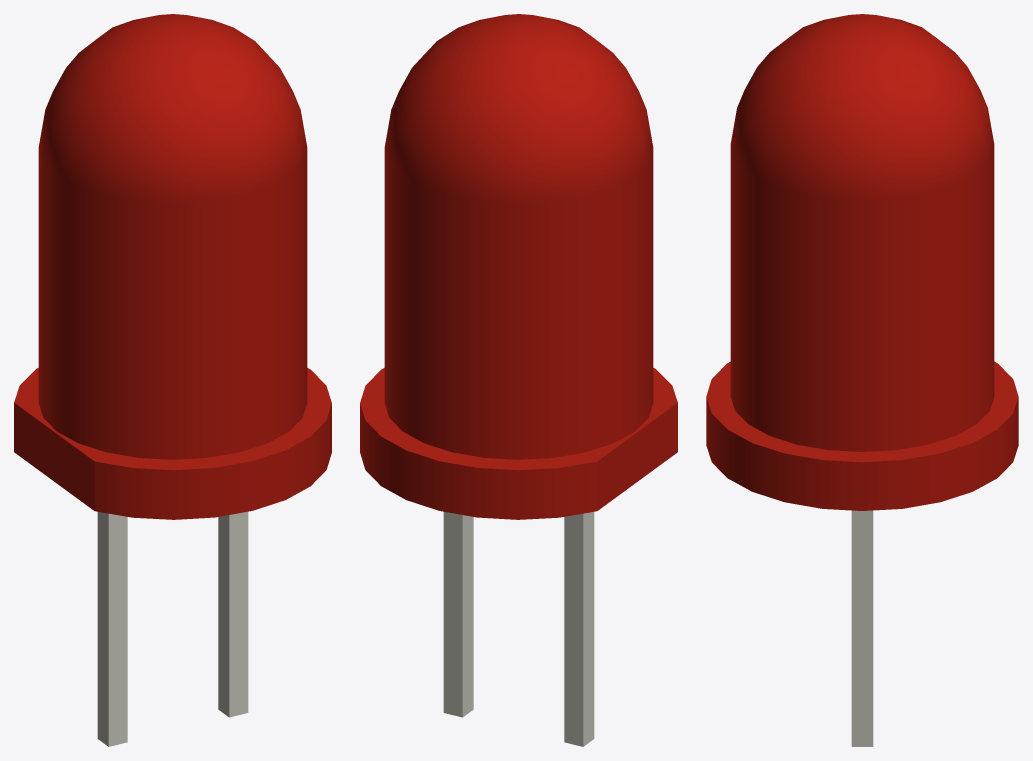
Rendered from LED_THT__LED_D5.0mm.glb.
3 views of the same model, side by side, from view 1: azimuth 30°, elevation 25°; view 2: azimuth 150°, elevation 25°; view 3: azimuth 270°, elevation 25° (orthographic).
Visible parts, largest first — view 1: LED_D5.0mm; view 2: LED_D5.0mm; view 3: LED_D5.0mm.
Boxes of the visible parts, x1,y1,x2,y2 form: LED_D5.0mm: [14, 14, 331, 746]; LED_D5.0mm: [360, 14, 677, 746]; LED_D5.0mm: [706, 14, 1018, 746].
Bounding box in the file's own units: 0.0054 × 0.0141 × 0.0058.
